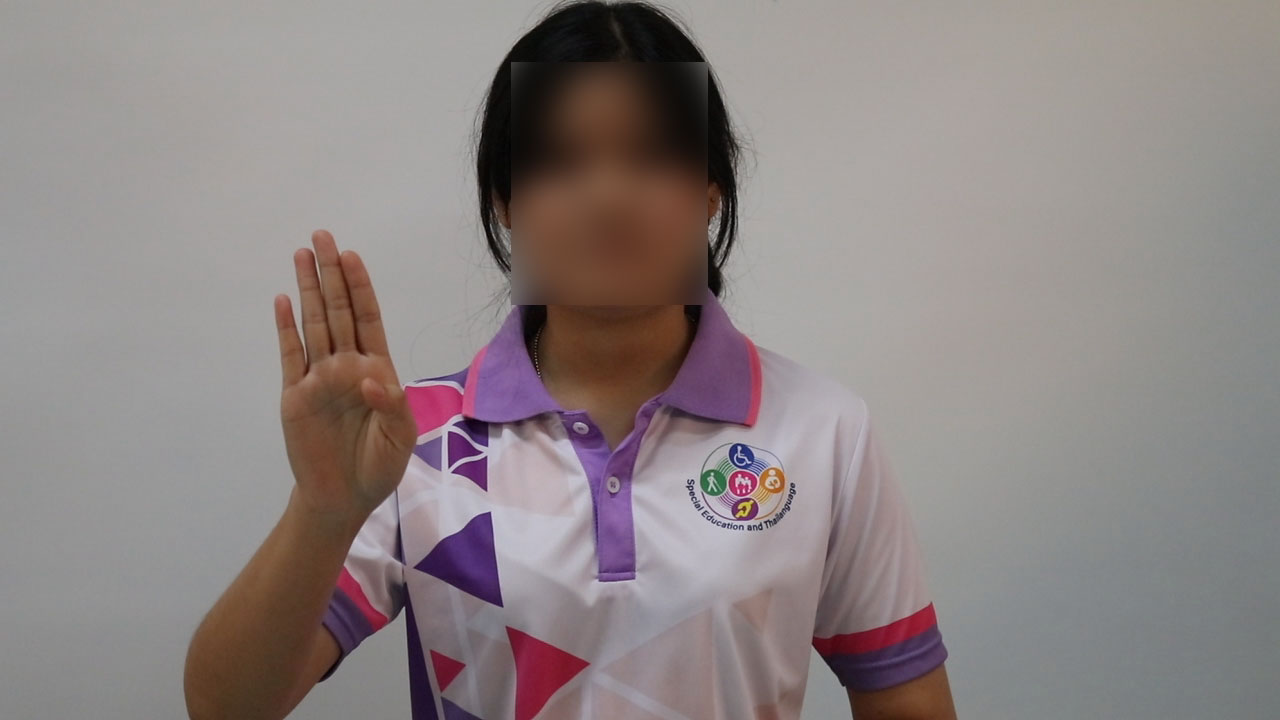bor: (255, 212, 439, 535)
